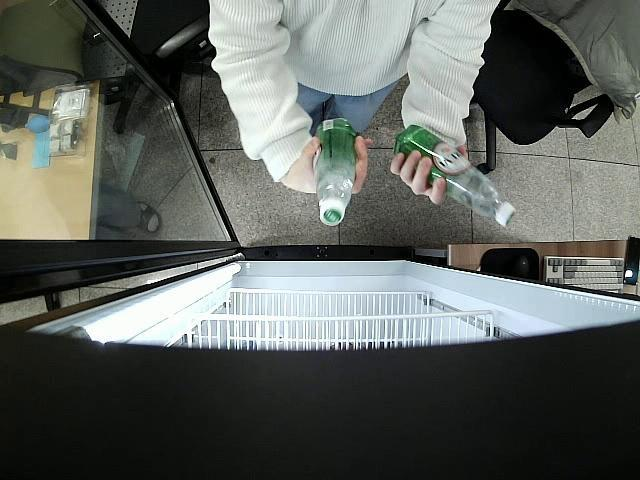18_trevi: (392, 125, 516, 227), (314, 114, 361, 227)
